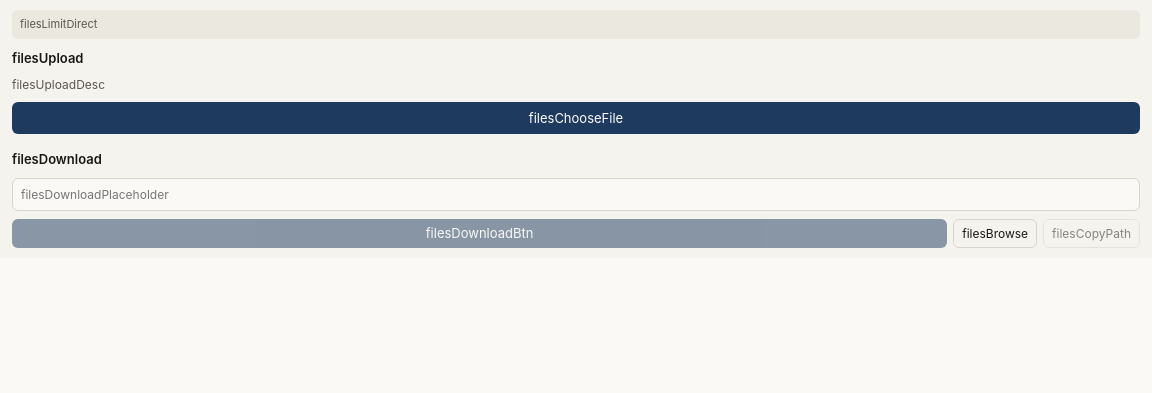
Test: FilesPanel 下载 › FilesPanel_BrowserCanGoUpAfterEnteringDir_1
The image size is (1152, 393).
Step 1. Click the button "filesBrowse" → (995,233), box [953, 218, 1037, 248]
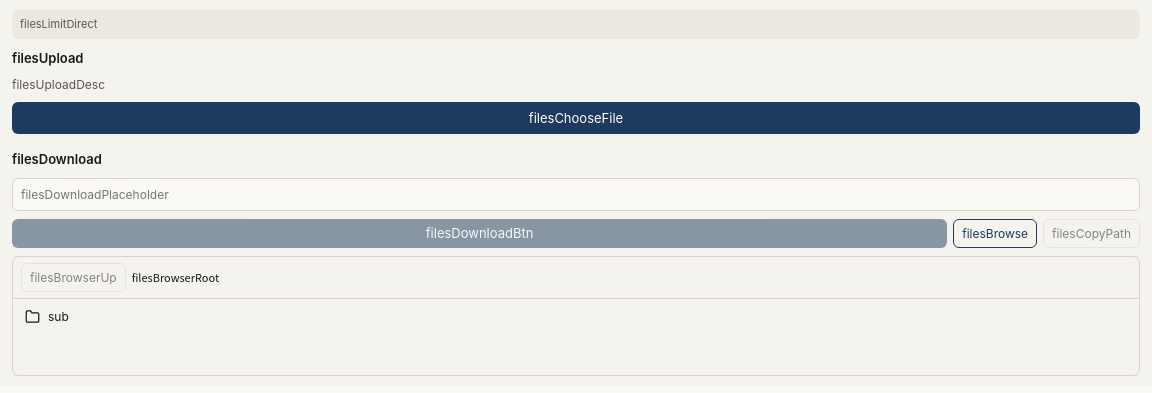
Step 2. Click the button with class "browser-item" → (32,316), box [17, 302, 1135, 330]
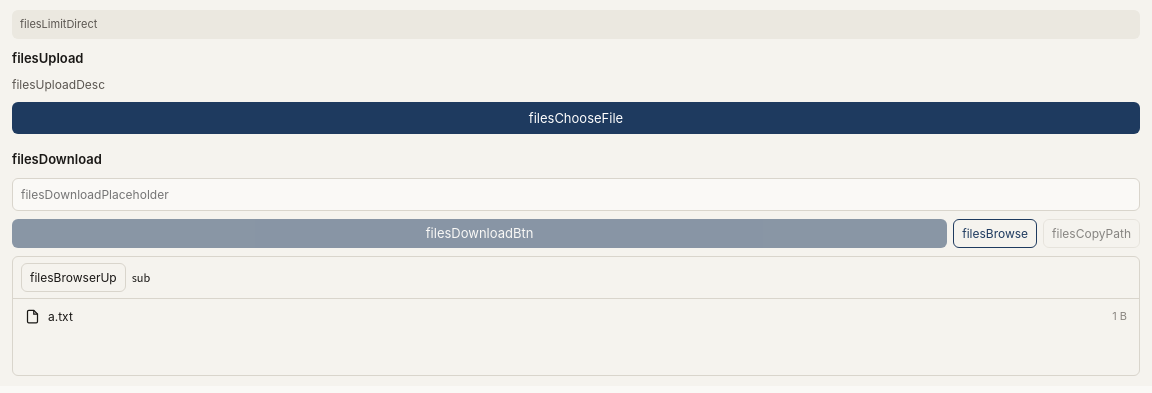
Expected: the button with class "secondary-btn" showing "filesBrowserUp" is enabled, [21, 262, 126, 292]
